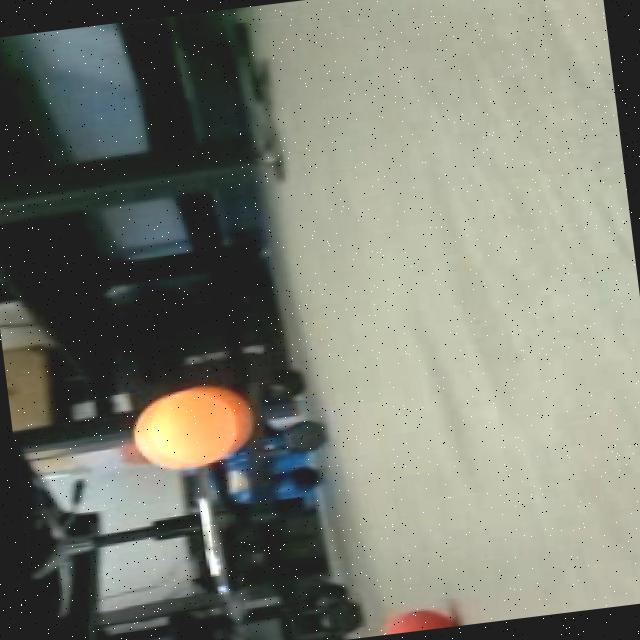ping-pong-ball: (128, 378, 258, 481), (371, 602, 463, 636)
